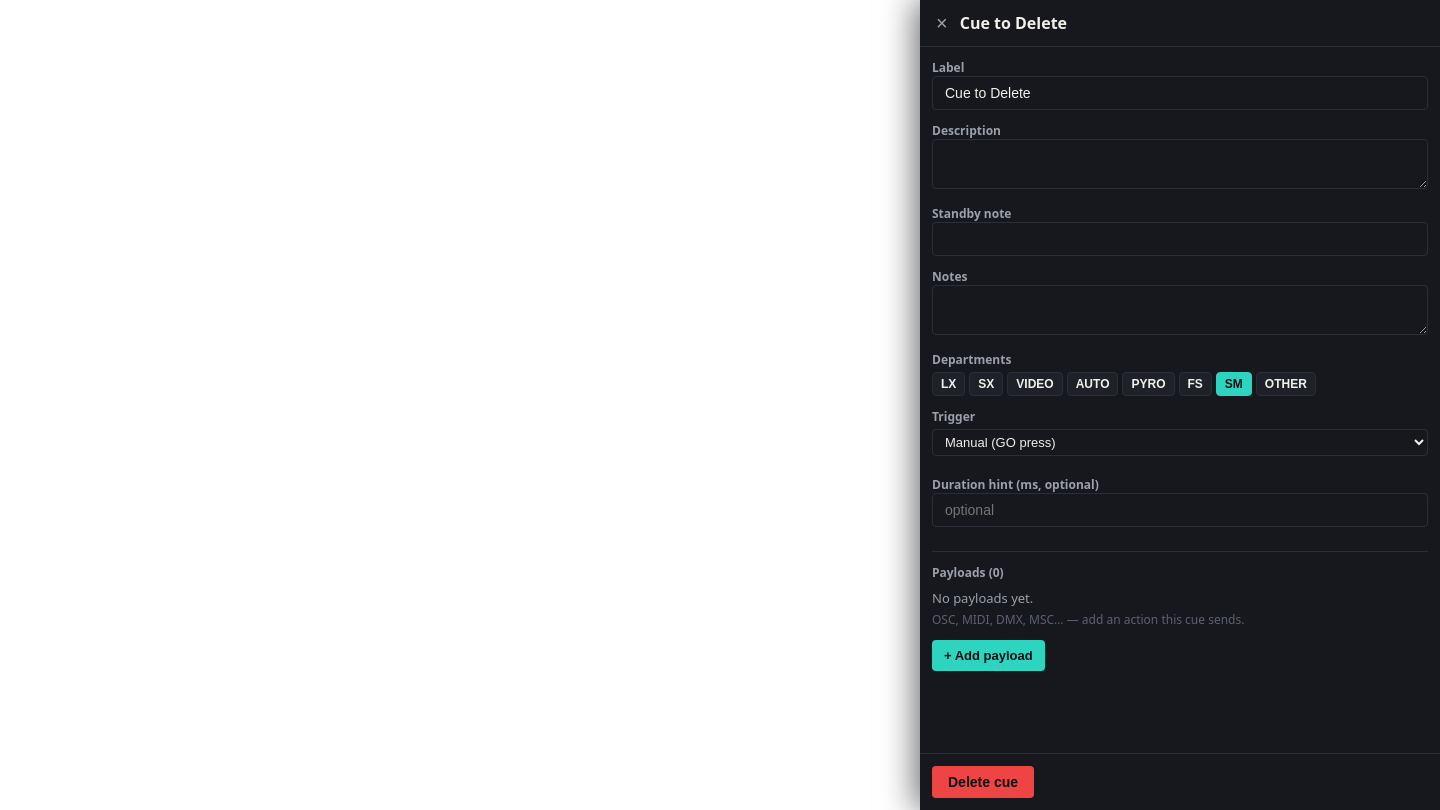
Test: CueEditor › delete button opens DeleteConfirmDialog
The image size is (1440, 810).
Click the button "Delete cue". click: [983, 782]
box: [932,766,1034,798]
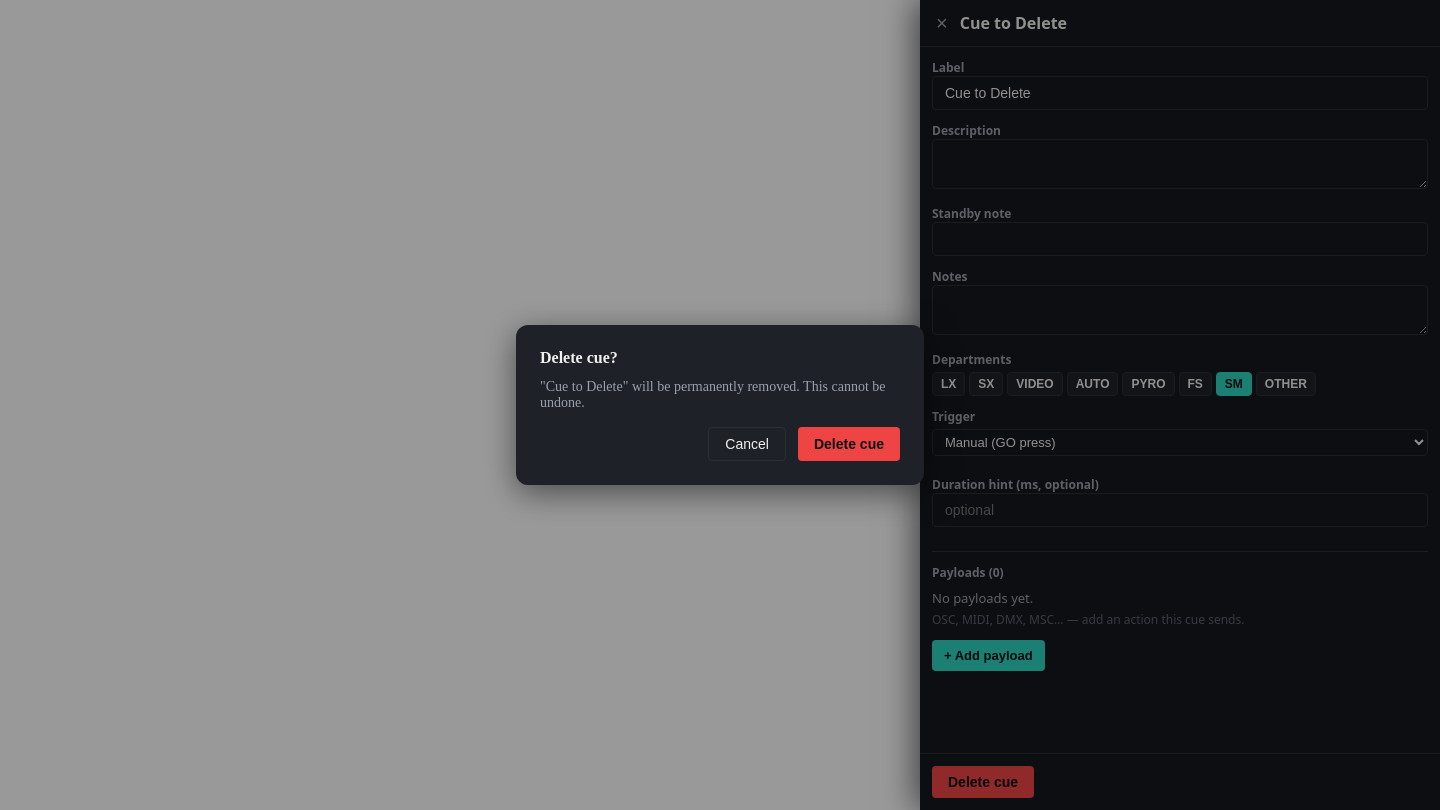
Expected: the dialog named "confirm delete cue" is shown
Expected: the text "\"Cue to Delete\"" is shown, [540,379,900,411]
